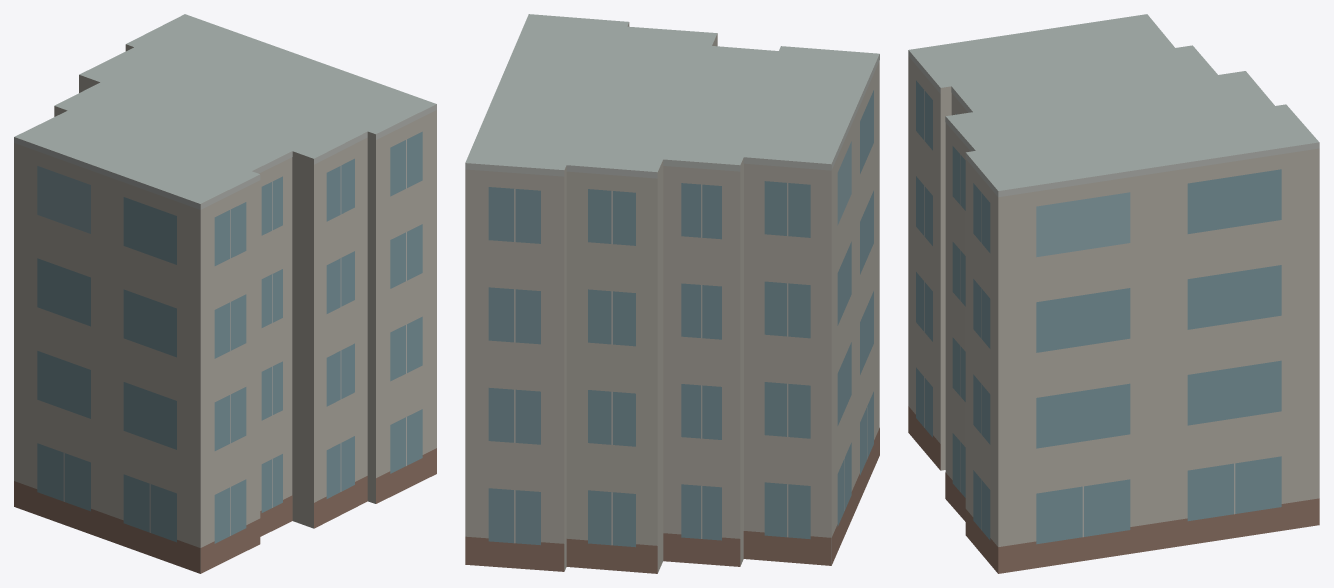
The model's file is survey-upis-32802338.glb.
The picture shows the model from 3 angles, left to right: view 1: azimuth 30°, elevation 25°; view 2: azimuth 150°, elevation 25°; view 3: azimuth 270°, elevation 25°; orthographic projection. The views are drawn at different scales.
Parts seen in each view (by area): view 1: survey-upis-32802338.tmp; view 2: survey-upis-32802338.tmp; view 3: survey-upis-32802338.tmp.
Boxes of the visible parts, x1,y1,x2,y2 form: survey-upis-32802338.tmp: (14, 14, 436, 573); survey-upis-32802338.tmp: (465, 14, 879, 573); survey-upis-32802338.tmp: (908, 14, 1319, 573).
Size of the model in its own units: 15.14 by 15.25 by 14.85.
